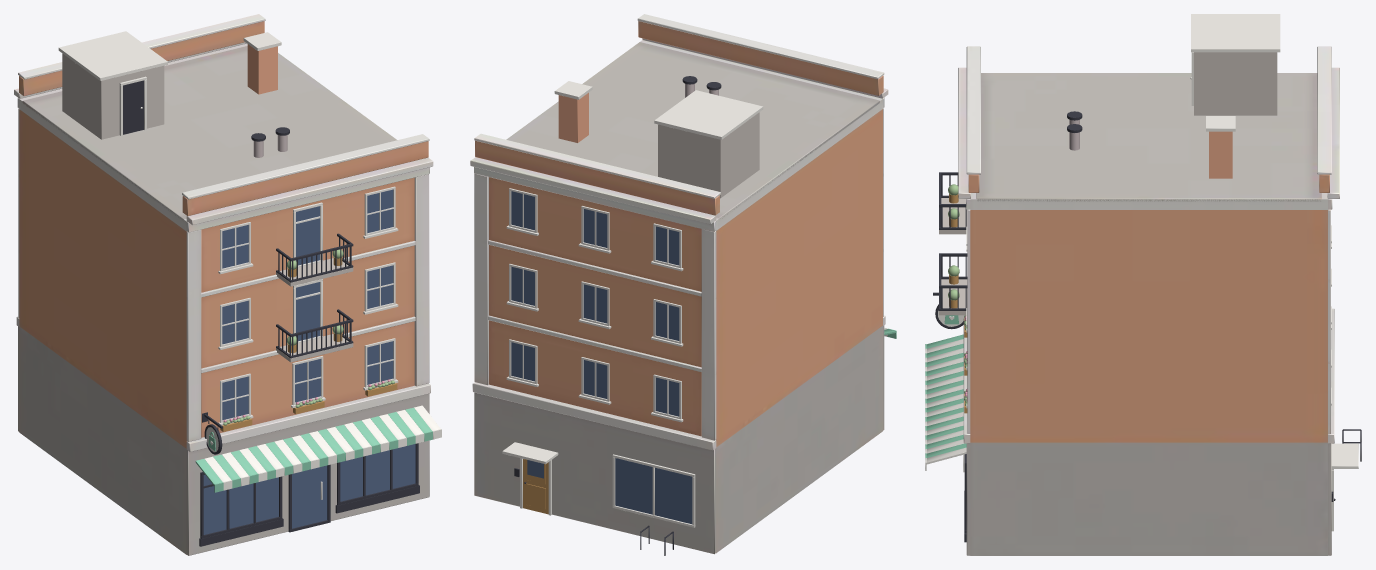
Rendered from city-block-filler-f206a4a2.glb.
The picture shows the model from 3 angles, left to right: view 1: azimuth 30°, elevation 25°; view 2: azimuth 150°, elevation 25°; view 3: azimuth 270°, elevation 25°; orthographic projection. The views are drawn at different scales.
Visible parts, largest first — view 1: city-block-filler_body, city-block-filler_details; view 2: city-block-filler_body, city-block-filler_details; view 3: city-block-filler_body, city-block-filler_details.
Boxes of the visible parts, x1,y1,x2,y2 form: city-block-filler_body: [14, 14, 433, 555]; city-block-filler_details: [58, 31, 441, 546]; city-block-filler_body: [470, 14, 888, 554]; city-block-filler_details: [502, 76, 896, 555]; city-block-filler_body: [958, 46, 1339, 555]; city-block-filler_details: [925, 14, 1361, 542].
Bounding box in the file's own units: 10 × 15.72 × 14.63.
2 materials, 2 textured.
